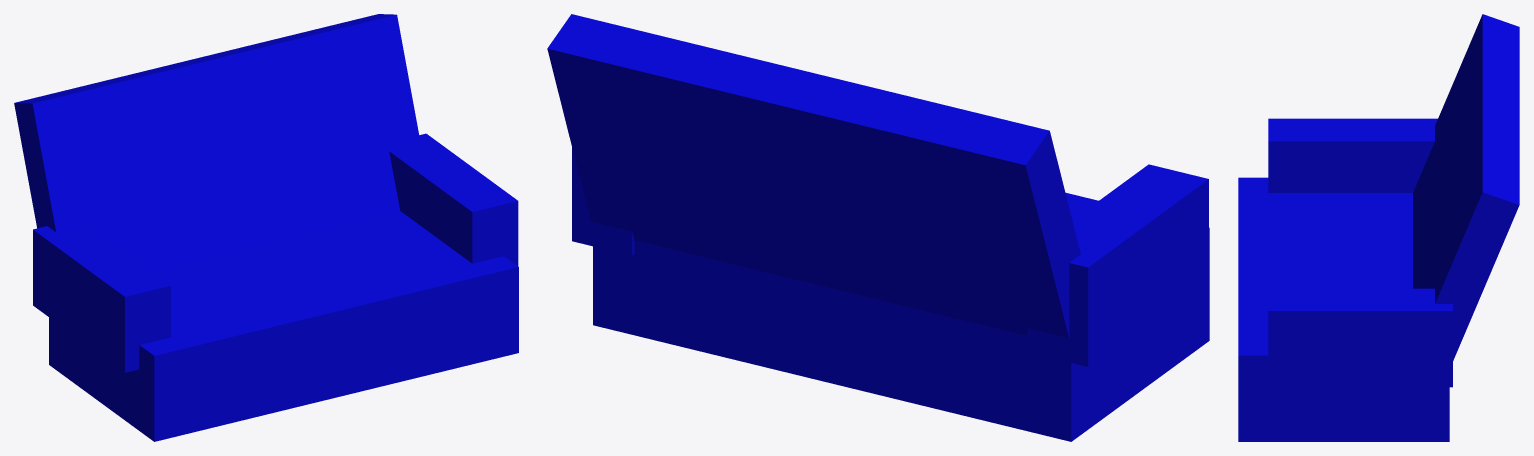
File: sofa.fbx
3 renders of one model, left to right at view 1: azimuth 30°, elevation 25°; view 2: azimuth 150°, elevation 25°; view 3: azimuth 270°, elevation 25°, orthographic. The views are drawn at different scales.
Visible parts, largest first — view 1: sofa1; view 2: sofa1; view 3: sofa1.
Boxes of the visible parts, <box> form: sofa1: <box>14,14,518,441</box>; sofa1: <box>547,14,1209,441</box>; sofa1: <box>1238,14,1519,441</box>.
Size of the model in its own units: 2.15 by 1.3 by 1.33.
